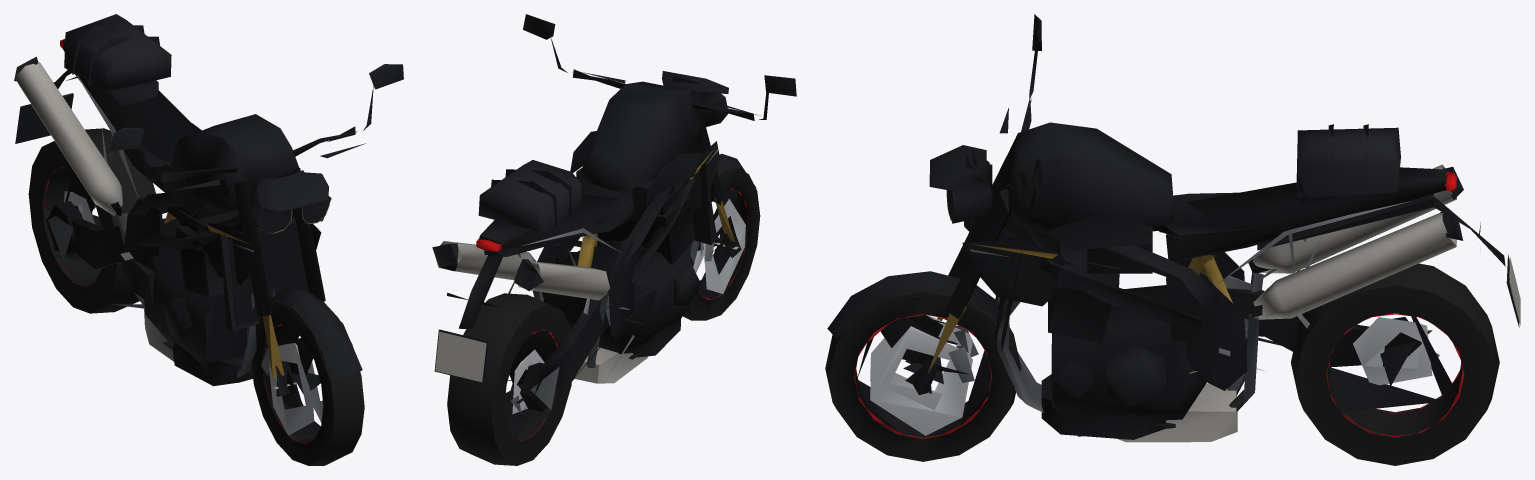
Rendered from bike02_speed_triple.glb.
3 views of the same model, side by side, from view 1: azimuth 30°, elevation 25°; view 2: azimuth 150°, elevation 25°; view 3: azimuth 270°, elevation 25° (orthographic). The views are drawn at different scales.
Parts seen in each view (by area): view 1: body, wheel_front, wheel_rear, luggage; view 2: body, wheel_rear, wheel_front, luggage; view 3: body, wheel_rear, wheel_front, luggage.
Boxes of the visible parts, x1,y1,x2,y2 form: body: (14,39,403,396); wheel_front: (251,299,364,465); wheel_rear: (28,128,162,313); luggage: (64,14,171,91); body: (432,14,796,413); wheel_rear: (447,293,571,465); wheel_front: (683,167,760,320); luggage: (478,160,581,232); body: (827,14,1520,442); wheel_rear: (1291,263,1499,465); wheel_front: (825,288,1020,461); luggage: (1296,124,1400,198).
Size of the model in its own units: 1.17 by 1.23 by 2.13.
